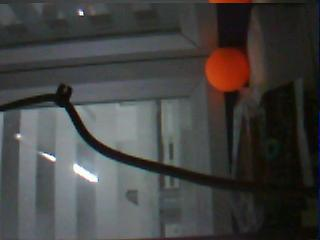oball: (205, 48, 248, 91)
